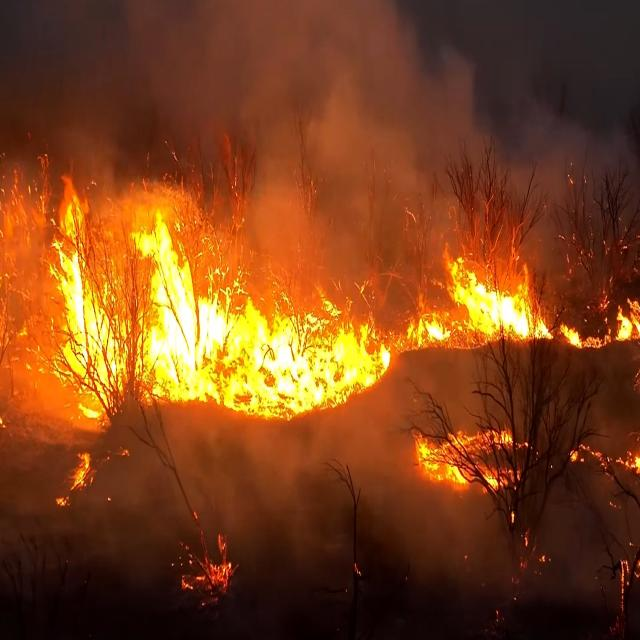fire: (55, 205, 394, 406), (404, 228, 551, 358)
smoke: (119, 0, 436, 228)
